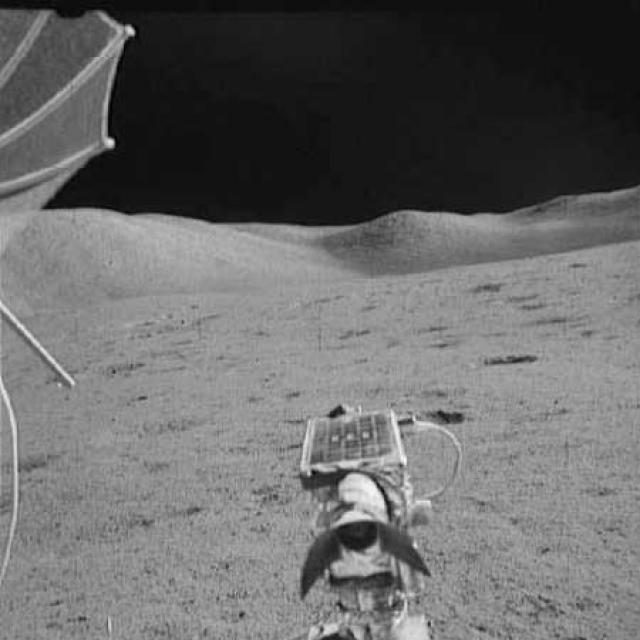artifact: (1, 7, 130, 639), (286, 398, 481, 639)
crater: (478, 351, 546, 372)
